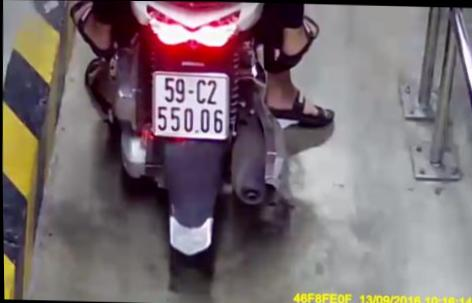LP: (149, 69, 233, 141)
